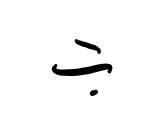div: (53, 38, 113, 96)
